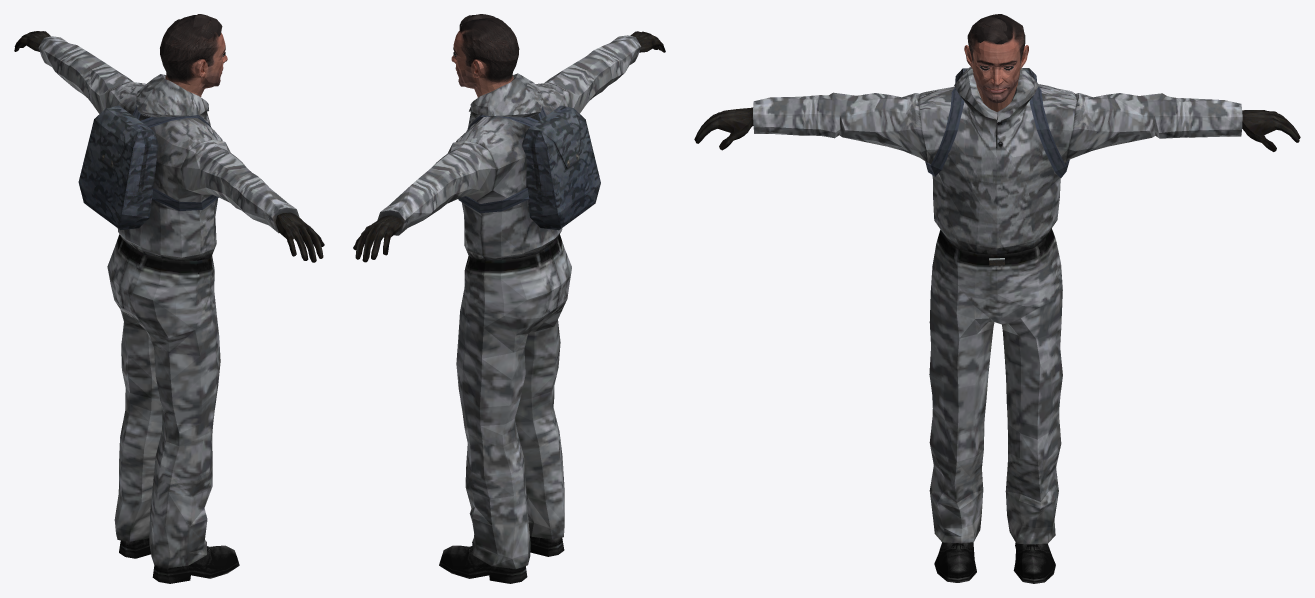
Rendered from sean connery winter.obj.
3 views of the same model, side by side, from view 1: azimuth 30°, elevation 25°; view 2: azimuth 150°, elevation 25°; view 3: azimuth 270°, elevation 25° (orthographic). The views are drawn at different scales.
Visible parts, largest first — view 1: Object.006_Mesh.006_M, Object.003_Mesh.003_M, Object.000_Mesh.000_M, Object.001_Mesh.001_M; view 2: Object.006_Mesh.006_M, Object.003_Mesh.003_M, Object.000_Mesh.000_M, Object.001_Mesh.001_M; view 3: Object.006_Mesh.006_M, Object.000_Mesh.000_M, Object.001_Mesh.001_M, Object.003_Mesh.003_M.
Part boxes in pixels (box(x1,y1,x2,y2)): Object.006_Mesh.006_M: box(38, 36, 299, 583); Object.003_Mesh.003_M: box(78, 105, 218, 230); Object.000_Mesh.000_M: box(160, 15, 227, 96); Object.001_Mesh.001_M: box(14, 31, 324, 262); Object.006_Mesh.006_M: box(377, 35, 641, 583); Object.003_Mesh.003_M: box(458, 105, 600, 230); Object.000_Mesh.000_M: box(451, 18, 519, 97); Object.001_Mesh.001_M: box(353, 31, 665, 262); Object.006_Mesh.006_M: box(753, 67, 1242, 583); Object.000_Mesh.000_M: box(964, 14, 1028, 111); Object.001_Mesh.001_M: box(694, 107, 1300, 151); Object.003_Mesh.003_M: box(925, 68, 1069, 177).
Bounding box in the file's own units: 0.4643 × 1.86 × 1.85.
9 materials, 9 textured.
